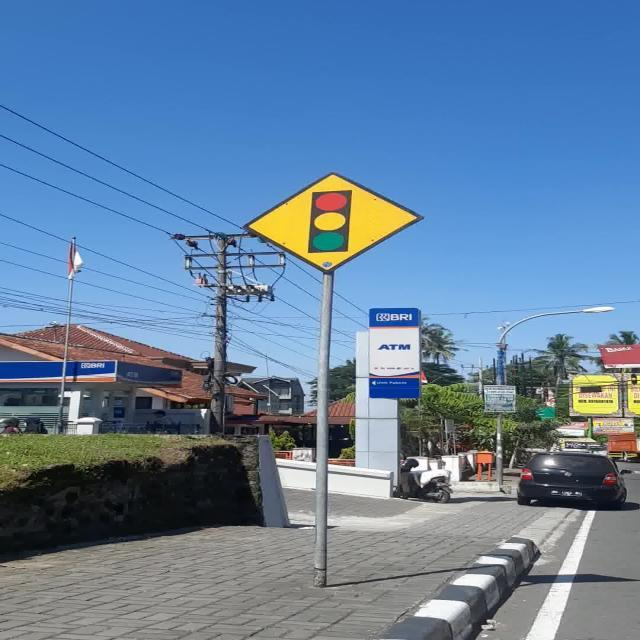Lampu Lalu Lintas: (244, 172, 425, 274)
